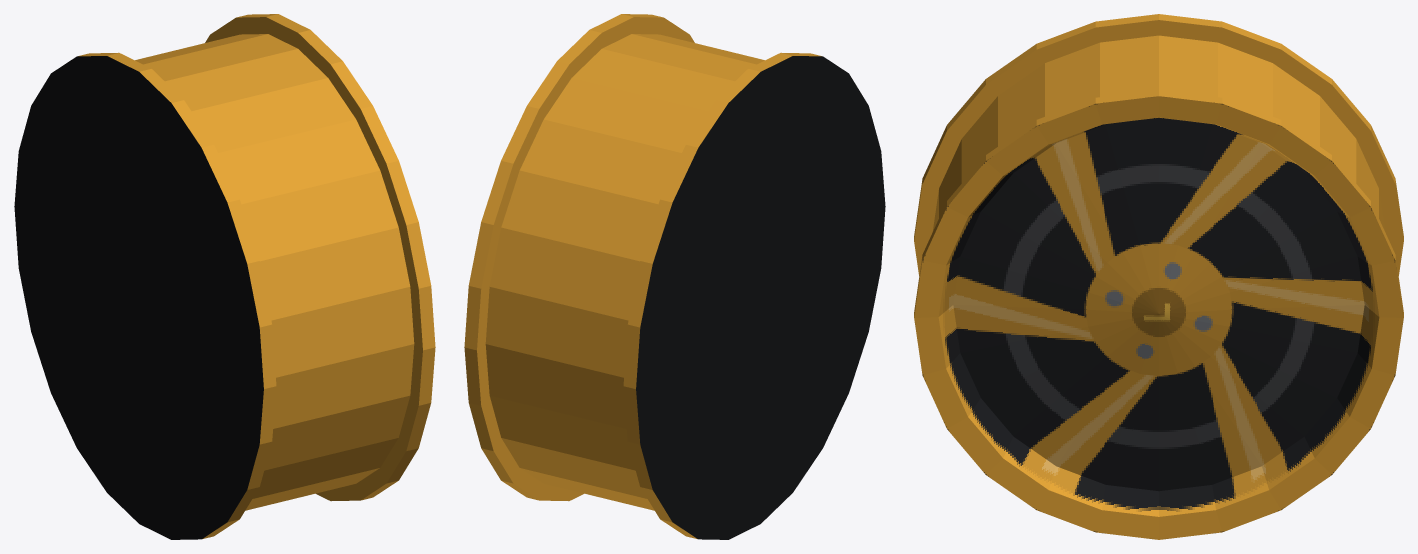
The model's file is lumiar_lamina_17.glb.
The picture shows the model from 3 angles, left to right: view 1: azimuth 30°, elevation 25°; view 2: azimuth 150°, elevation 25°; view 3: azimuth 270°, elevation 25°; orthographic projection.
Parts seen in each view (by area): view 1: lumiar_lamina_17; view 2: lumiar_lamina_17; view 3: lumiar_lamina_17.
Boxes of the visible parts, x1,y1,x2,y2 form: lumiar_lamina_17: (14, 14, 435, 539); lumiar_lamina_17: (464, 14, 885, 539); lumiar_lamina_17: (914, 14, 1403, 539).
Size of the model in its own units: 0.192 by 0.4836 by 0.4836.
1 material, 1 textured.
